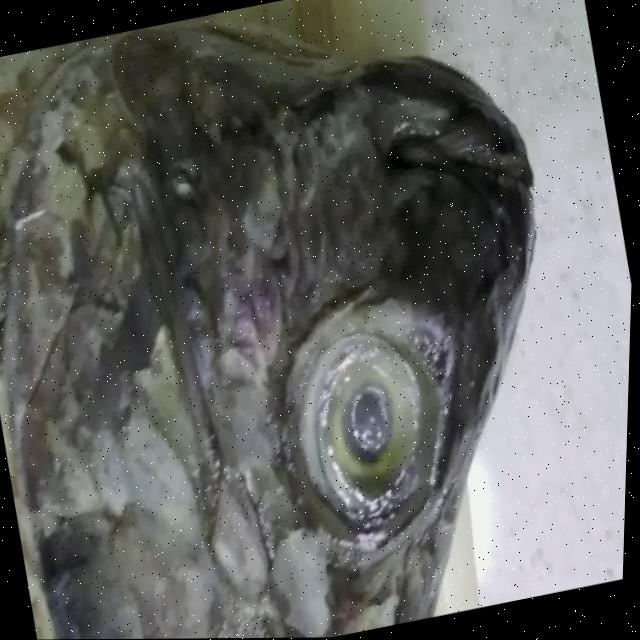Non-Fresh: (282, 324, 473, 541)
